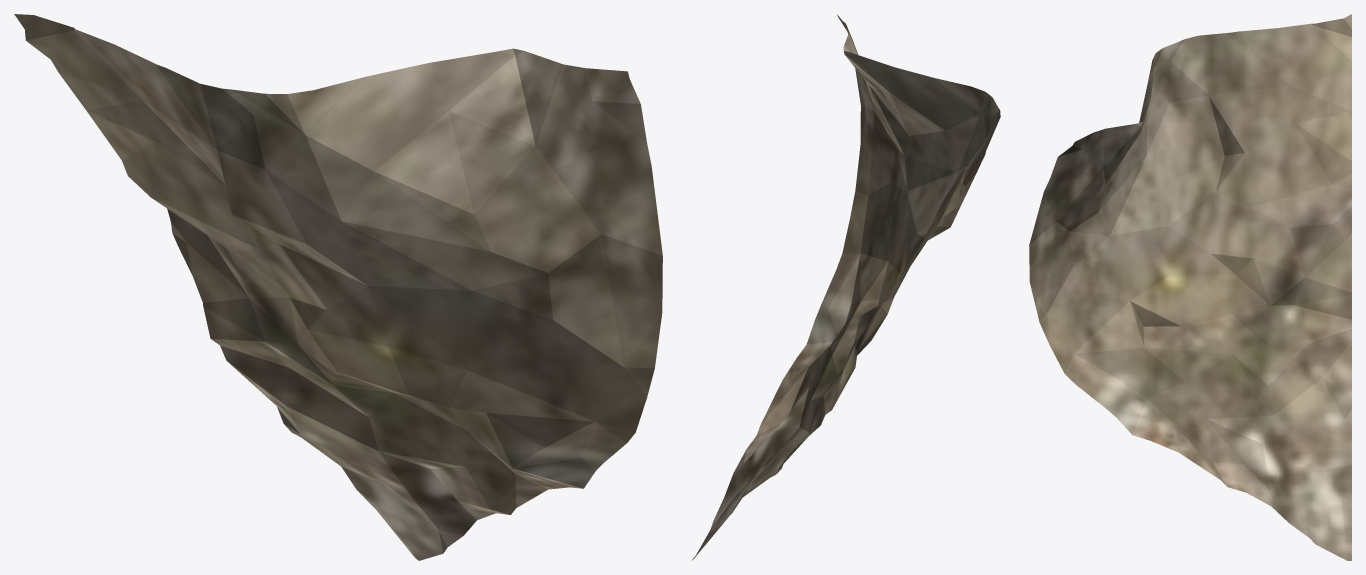
The picture shows the model from 3 angles, left to right: view 1: azimuth 30°, elevation 25°; view 2: azimuth 150°, elevation 25°; view 3: azimuth 270°, elevation 25°; orthographic projection. The views are drawn at different scales.
Size of the model in its own units: 0.7585 by 1.16 by 0.8092.
Materials: 1 (1 with a texture image).
